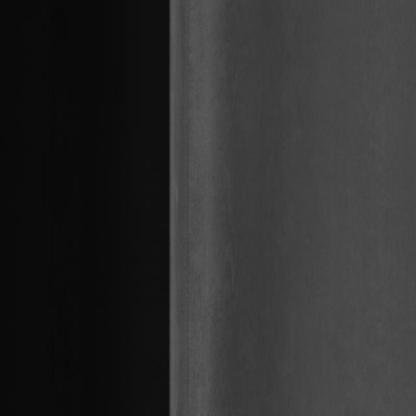silk_spot: (204, 188, 249, 302)
